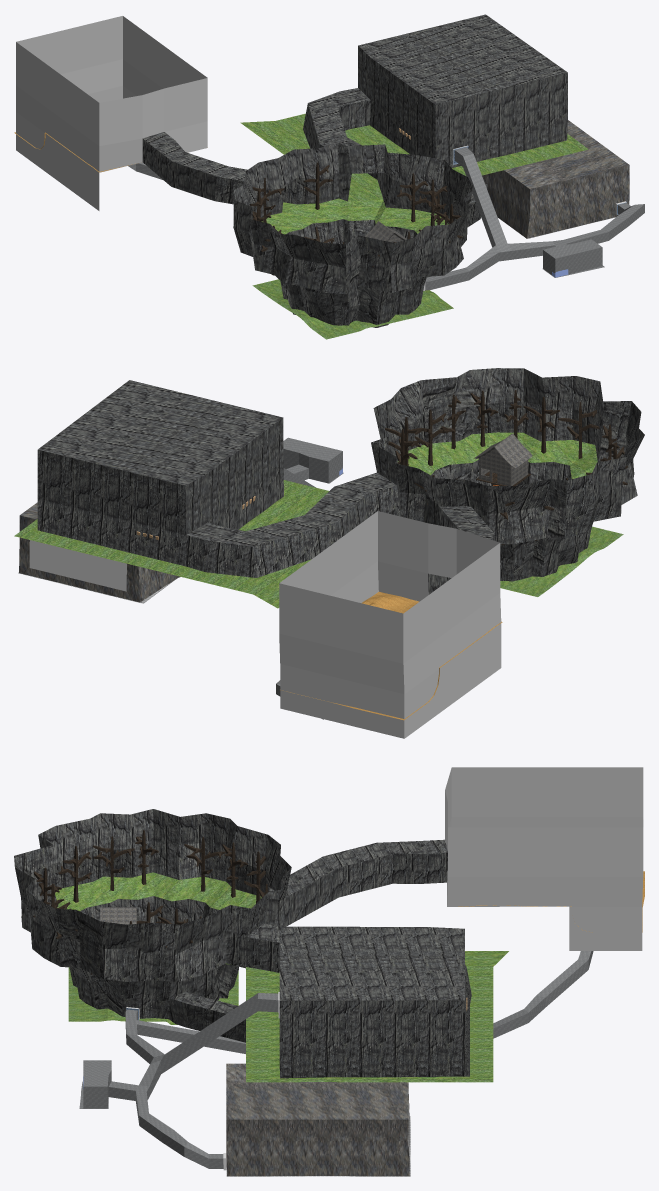
File: MAPVENTS.fbx
3 views of the same model, one above another, from view 1: azimuth 30°, elevation 25°; view 2: azimuth 150°, elevation 25°; view 3: azimuth 270°, elevation 25° (orthographic). The views are drawn at different scales.
Visible parts, largest first — view 1: Cylinder, BeachMap, FightingMap, City, GrassTop(NEVER DELETE), MODVENTSOBJECT, BottomGrass(NEVER DEL), Cube.003; view 2: Cylinder, BeachMap, FightingMap, GrassTop(NEVER DELETE), City, MODVENTSOBJECT, Cube.003, BottomGrass(NEVER DEL); view 3: Cylinder, BeachMap, FightingMap, City, GrassTop(NEVER DELETE), MODVENTSOBJECT, BottomGrass(NEVER DEL), Cube.003.
Boxes of the visible parts, x1,y1,x2,y2 form: Cylinder: (142,88,487,327); BeachMap: (14,16,207,210); FightingMap: (358,14,567,167); City: (482,120,629,238); GrassTop(NEVER DELETE): (240,113,588,234); MODVENTSOBJECT: (128,147,644,290); BottomGrass(NEVER DEL): (252,279,453,339); Cube.003: (365,221,406,242); Cylinder: (178,368,644,594); BeachMap: (279,511,502,738); FightingMap: (37,380,283,566); GrassTop(NEVER DELETE): (14,432,597,608); City: (18,502,178,603); MODVENTSOBJECT: (276,437,343,719); Cube.003: (474,433,532,485); BottomGrass(NEVER DEL): (500,526,623,596); Cylinder: (14,809,471,1042); BeachMap: (445,767,644,950); FightingMap: (279,926,469,1078); City: (226,1063,410,1176); GrassTop(NEVER DELETE): (55,872,508,1082); MODVENTSOBJECT: (79,951,593,1168); BottomGrass(NEVER DEL): (68,967,238,1024); Cube.003: (100,907,136,924).
Size of the model in its own units: 8284 by 2984 by 9070.
